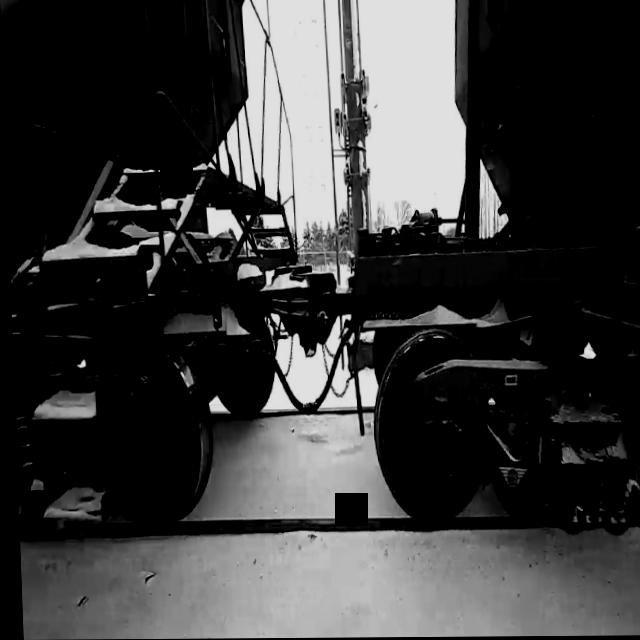hopper: (315, 0, 640, 559), (0, 0, 313, 561)
